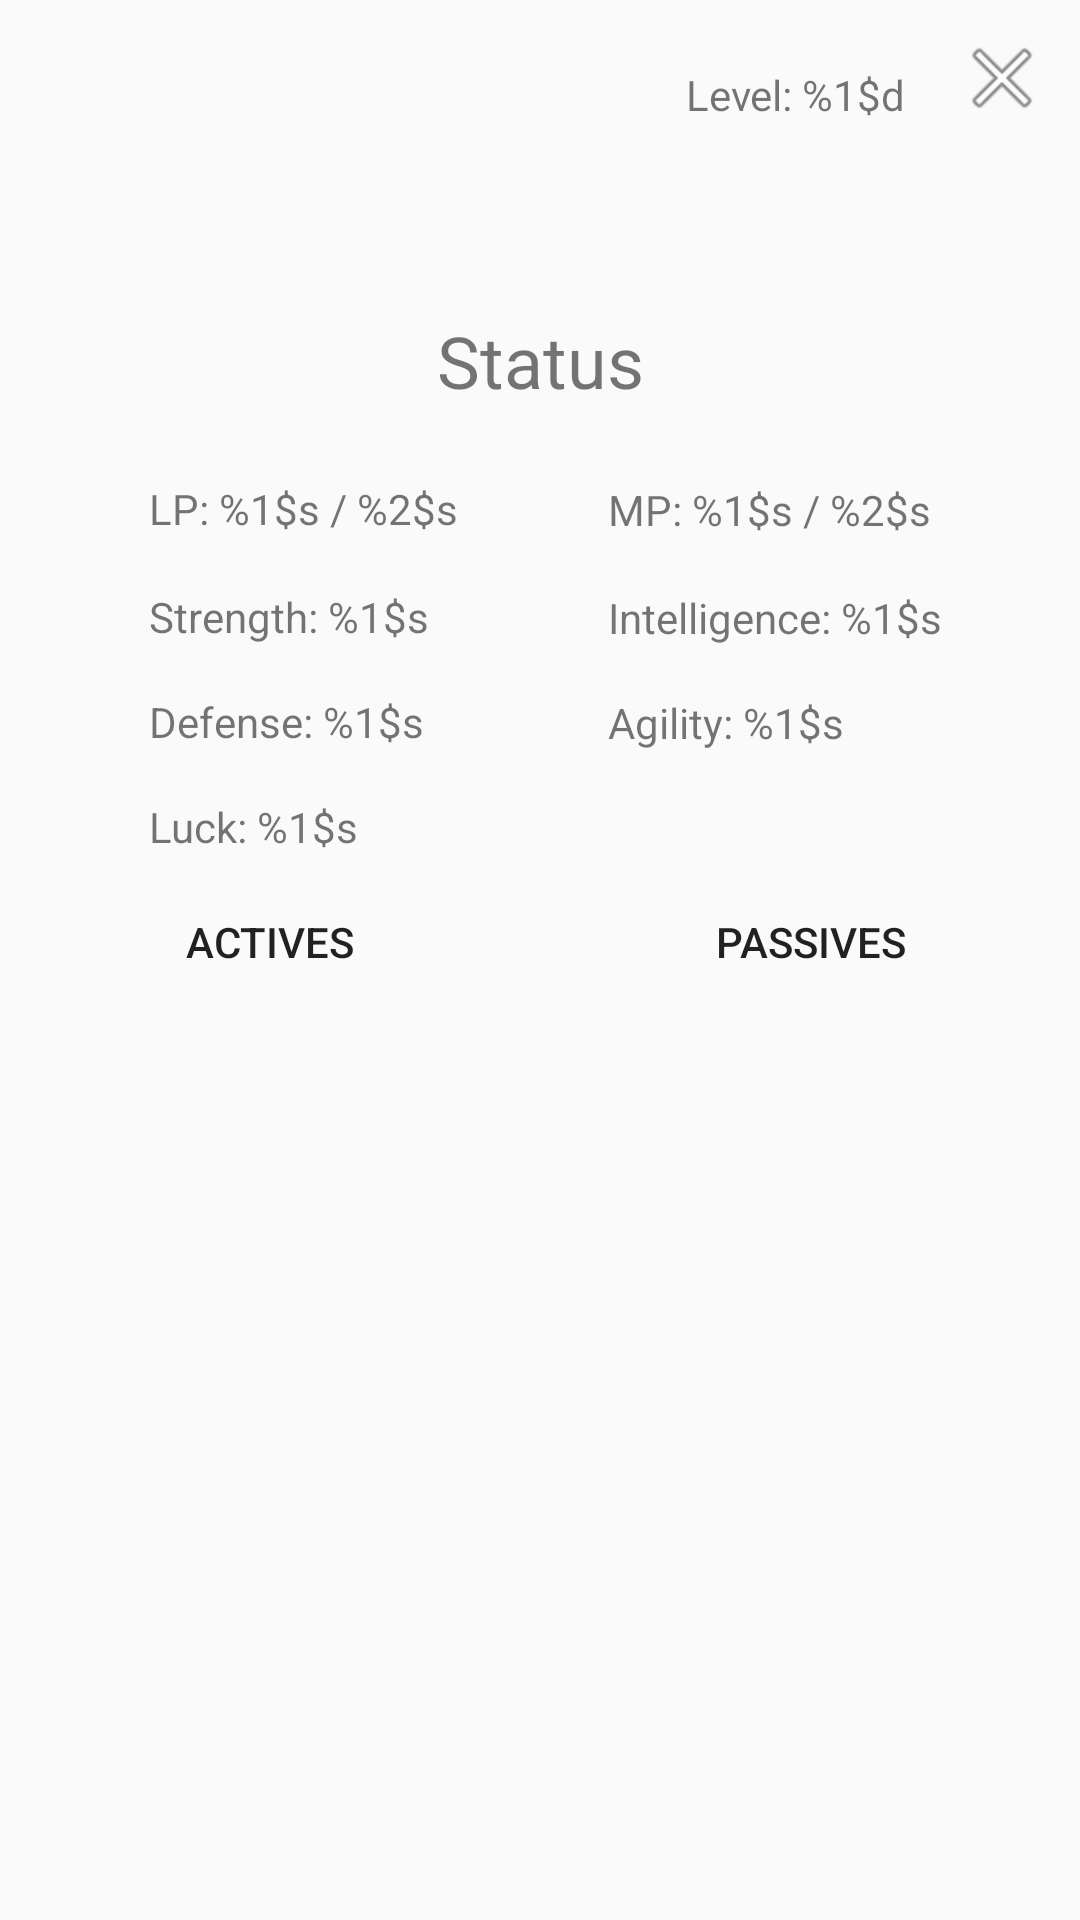

Screen size 1080 x 1920. Icon name, then its center in pixels as point (x, y):
Button to close current screen: point (1002, 78)
